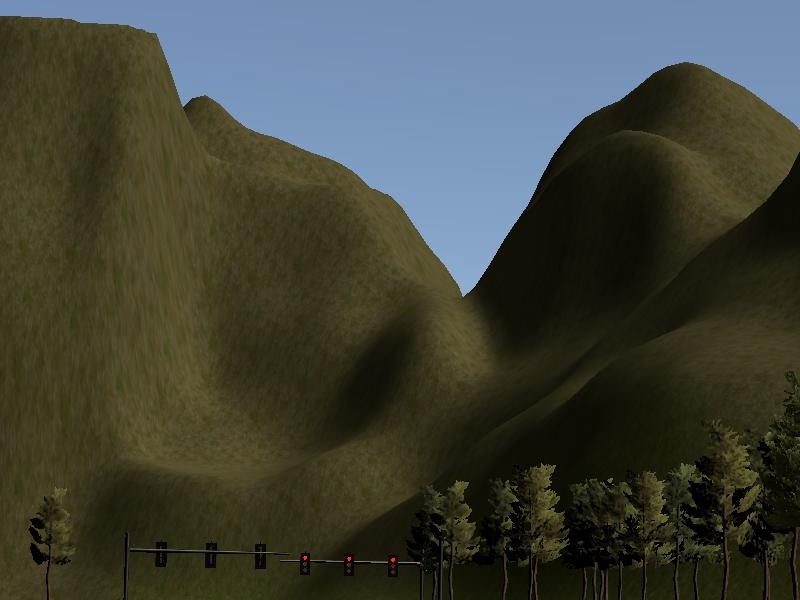red: (341, 553, 355, 577), (386, 553, 398, 581), (298, 551, 309, 576)
